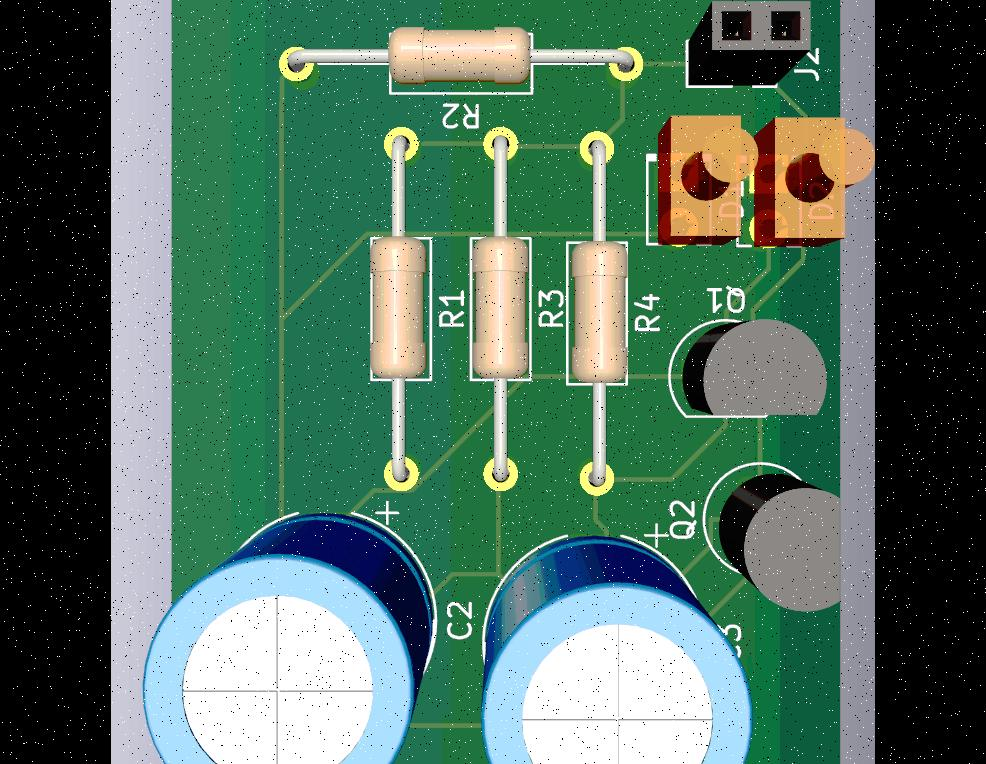capacitor: (140, 503, 436, 764), (482, 541, 746, 764)
diode_smd_orange: (650, 112, 764, 242), (761, 112, 875, 242)
resistor: (390, 28, 530, 94), (372, 228, 426, 380), (472, 232, 528, 378), (572, 241, 626, 382)
transistor: (716, 470, 842, 614), (678, 312, 831, 420)
